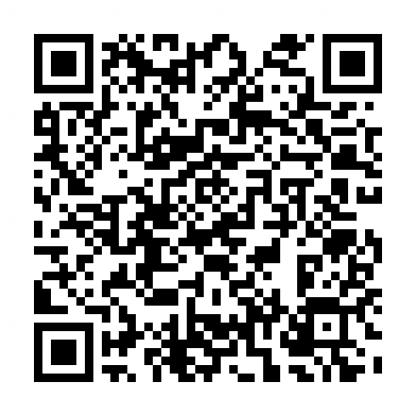qr: (29, 26, 391, 391)
